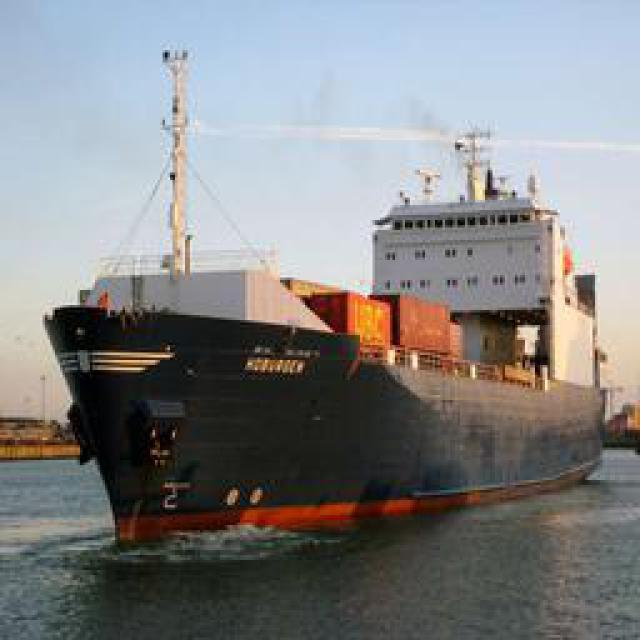Ship: (42, 256, 600, 554)
